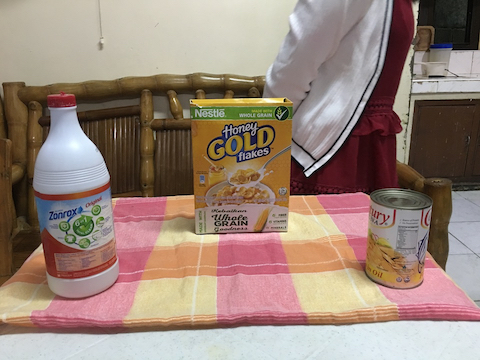bottle: (28, 92, 125, 302)
box: (189, 93, 298, 241)
can: (362, 185, 436, 292)
